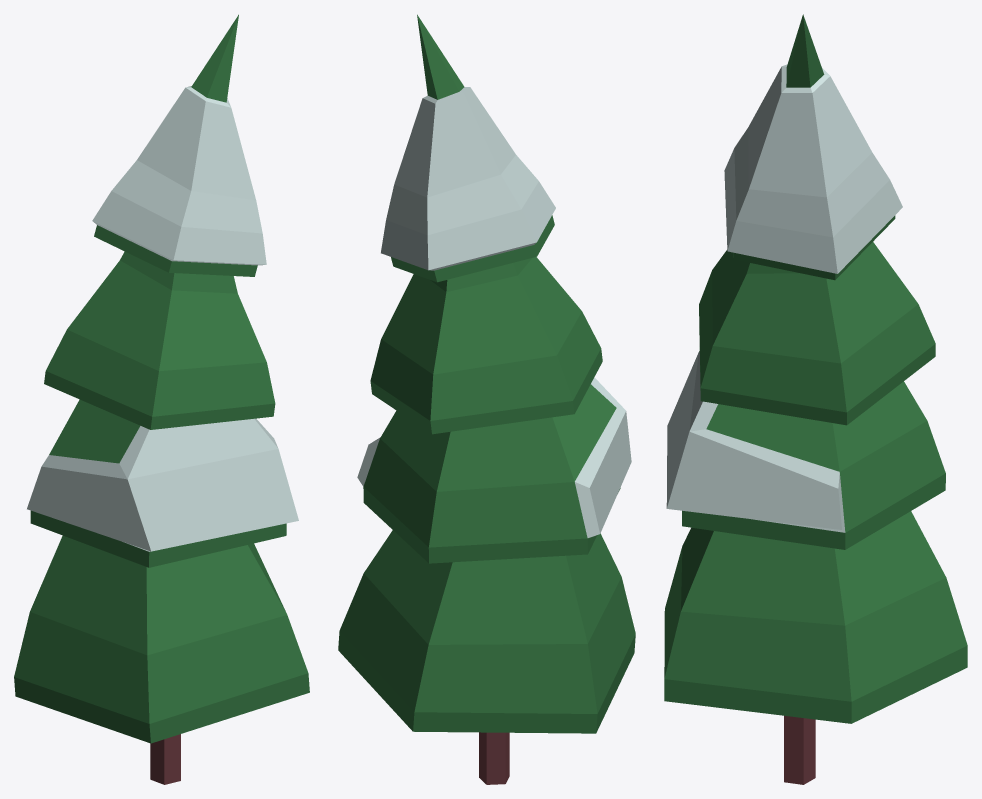
The model's file is tree_3_snow.fbx.
3 renders of one model, left to right at view 1: azimuth 30°, elevation 25°; view 2: azimuth 150°, elevation 25°; view 3: azimuth 270°, elevation 25°, orthographic. The views are drawn at different scales.
Visible parts, largest first — view 1: Cone, Cone.001, Cone.002, Cone.003, Cylinder; view 2: Cone, Cone.001, Cone.002, Cone.003, Cylinder; view 3: Cone, Cone.001, Cone.002, Cone.003, Cylinder.
Boxes of the visible parts, x1,y1,x2,y2 form: Cone: (14,535,309,743); Cone.001: (27,399,298,567); Cone.002: (44,251,275,429); Cone.003: (92,14,266,276); Cylinder: (150,734,180,784); Cone: (338,530,635,733); Cone.001: (357,377,631,563); Cone.002: (370,257,602,434); Cone.003: (381,14,555,282); Cylinder: (479,732,509,784); Cone: (664,511,967,723); Cone.001: (666,351,945,549); Cone.002: (699,242,935,425); Cone.003: (724,14,902,280); Cylinder: (784,715,815,784).
Size of the model in its own units: 71.29 by 196 by 67.14.
